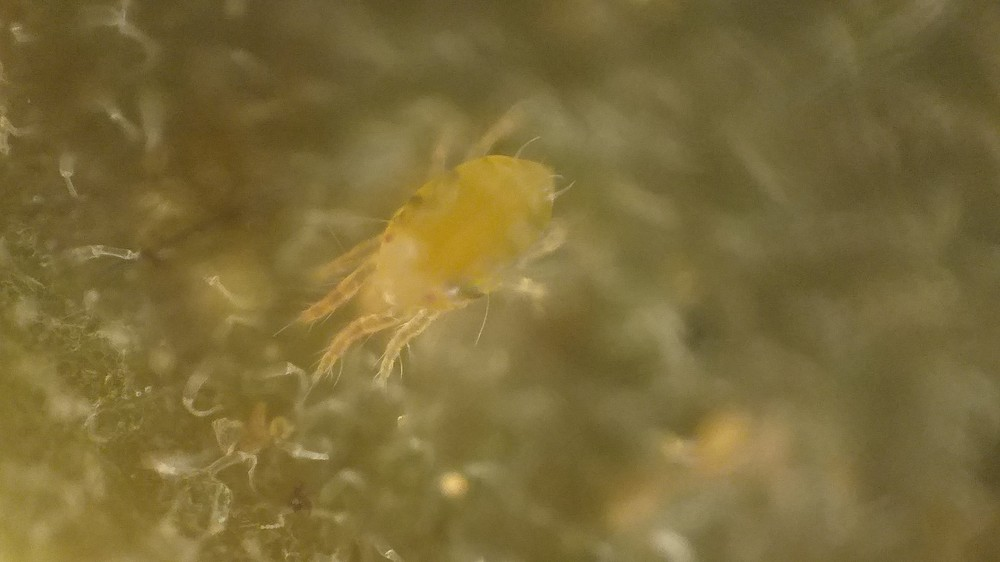Aracnido Rojo: (268, 95, 609, 415)
